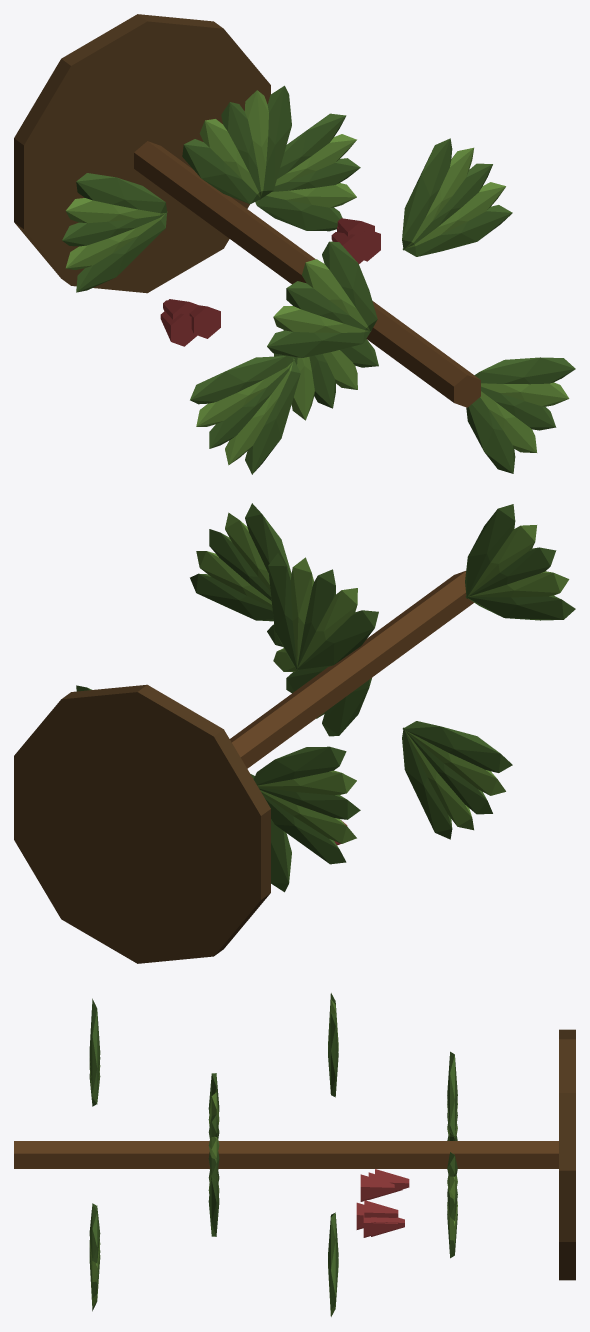
Rendered from 3_partial.obj.
The picture shows the model from 3 angles, top to bottom: view 1: azimuth 30°, elevation 25°; view 2: azimuth 150°, elevation 25°; view 3: azimuth 270°, elevation 25°; orthographic projection. The views are drawn at different scales.
Visible parts, largest first — view 1: wildblood_3_partial; view 2: wildblood_3_partial; view 3: wildblood_3_partial.
Boxes of the visible parts, x1,y1,x2,y2 form: wildblood_3_partial: (14, 14, 575, 474); wildblood_3_partial: (14, 503, 575, 963); wildblood_3_partial: (14, 993, 575, 1316).
Size of the model in its own units: 0.3733 by 0.378 by 0.66.
